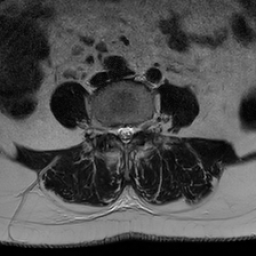CCS_normal: (122, 118, 129, 149)
LFS_normal: (134, 121, 140, 138)
LLS_normal: (128, 121, 133, 141)
RFS_normal: (109, 121, 116, 140)
RLS_normal: (116, 122, 122, 141)
